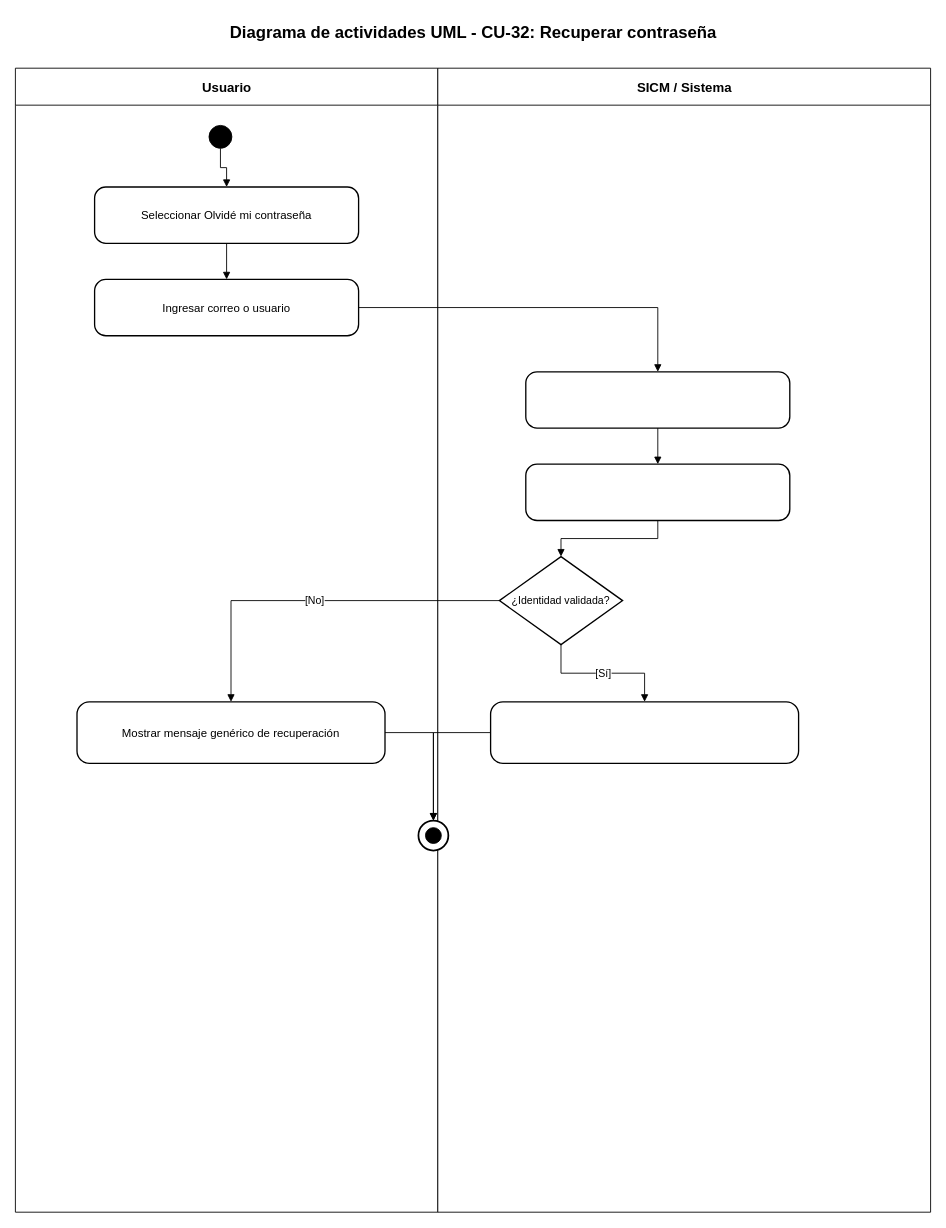
Image size: 946x1228. Some labels were removed from this diagram. The centre of each missing label's shape, as x and y in pixels:
"Buscar cuenta sin revelar su existencia" goes at [657,399].
"Definir y guardar nueva contraseña" goes at [644,732].
"Enviar enlace o validar preguntas" goes at [657,492].
